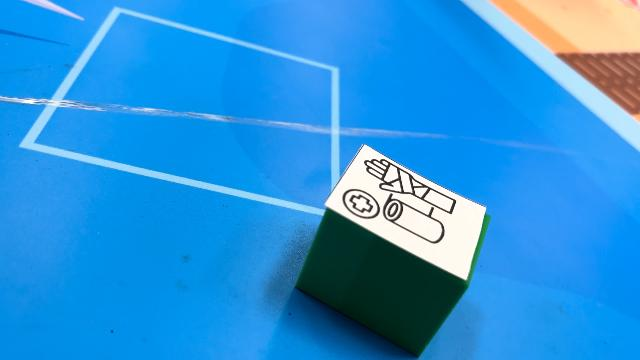bandage: (294, 143, 490, 357)
